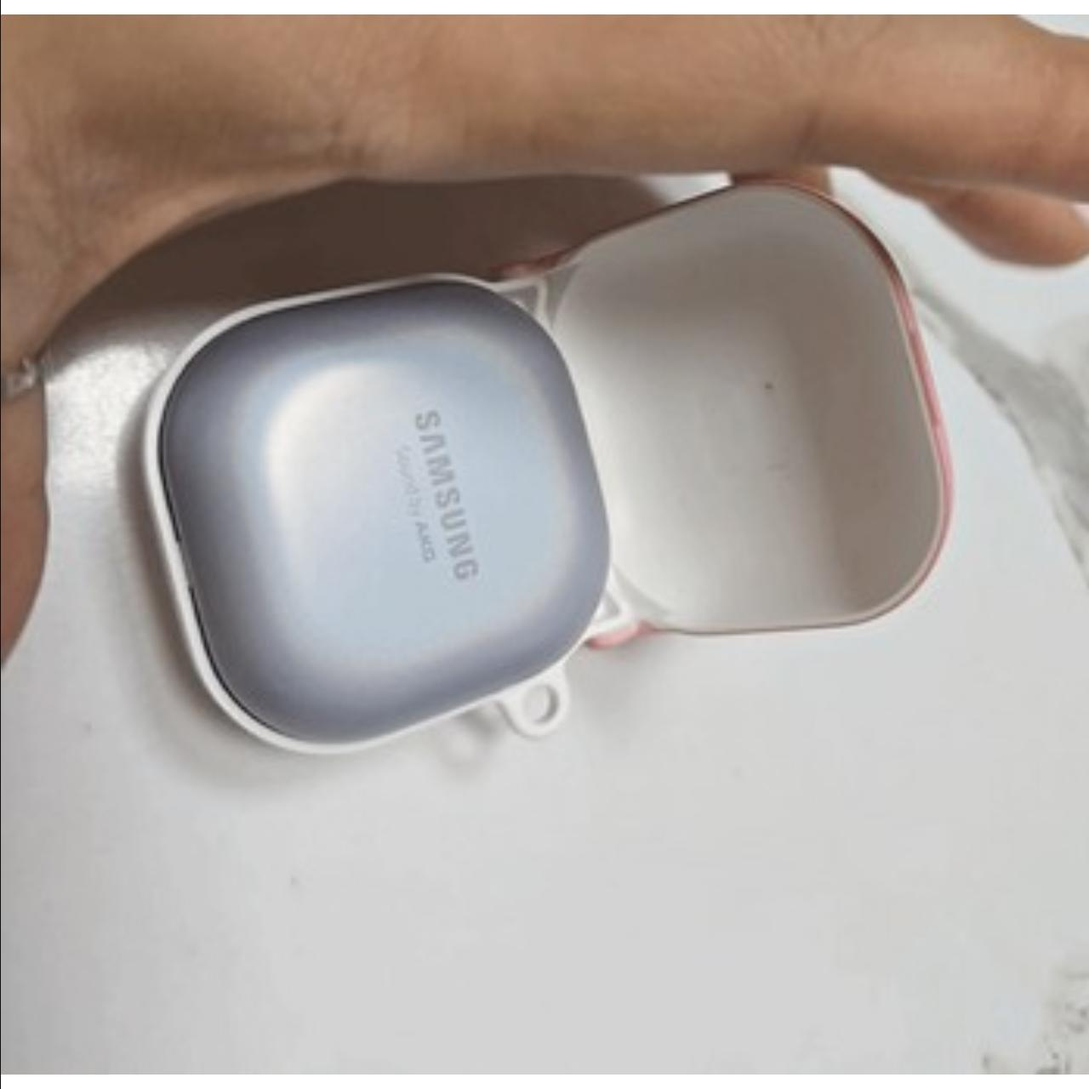Buds: (128, 274, 612, 758)
